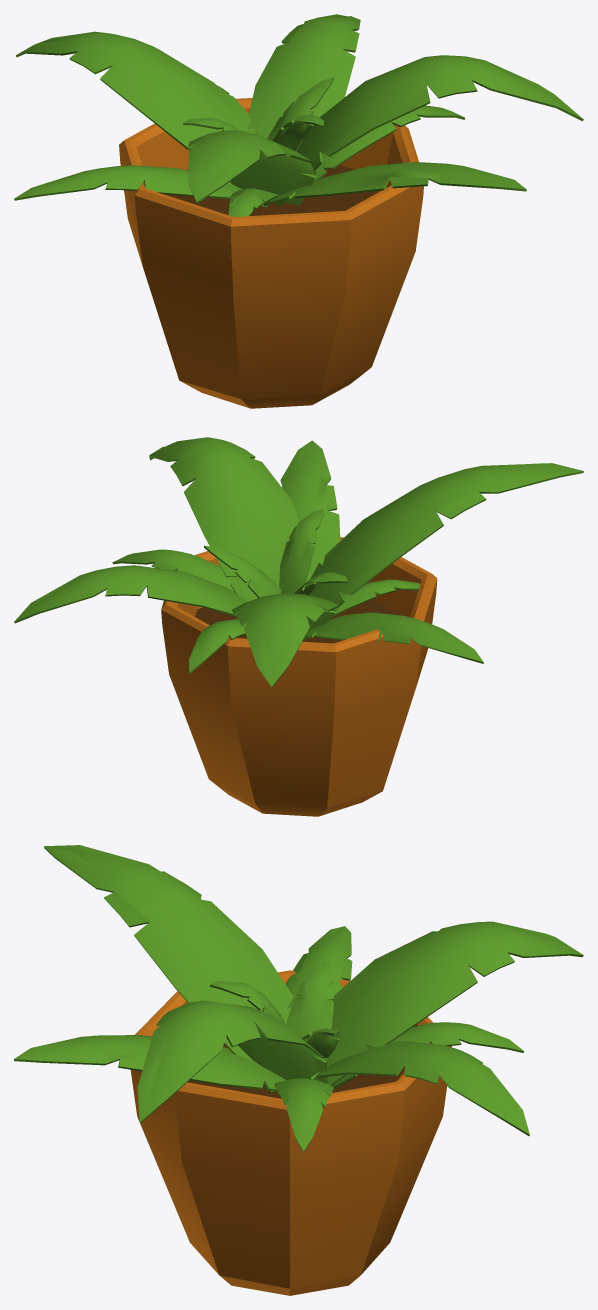
File: PotPlant2.FBX
3 renders of one model, top to bottom at view 1: azimuth 30°, elevation 25°; view 2: azimuth 150°, elevation 25°; view 3: azimuth 270°, elevation 25°, orthographic. The views are drawn at different scales.
Visible parts, largest first — view 1: Soil2; view 2: Soil2; view 3: Soil2.
Boxes of the visible parts, x1,y1,x2,y2 form: Soil2: (14, 14, 583, 408); Soil2: (14, 437, 583, 816); Soil2: (14, 845, 583, 1295).
Size of the model in its own units: 76.64 by 50.13 by 78.5.
